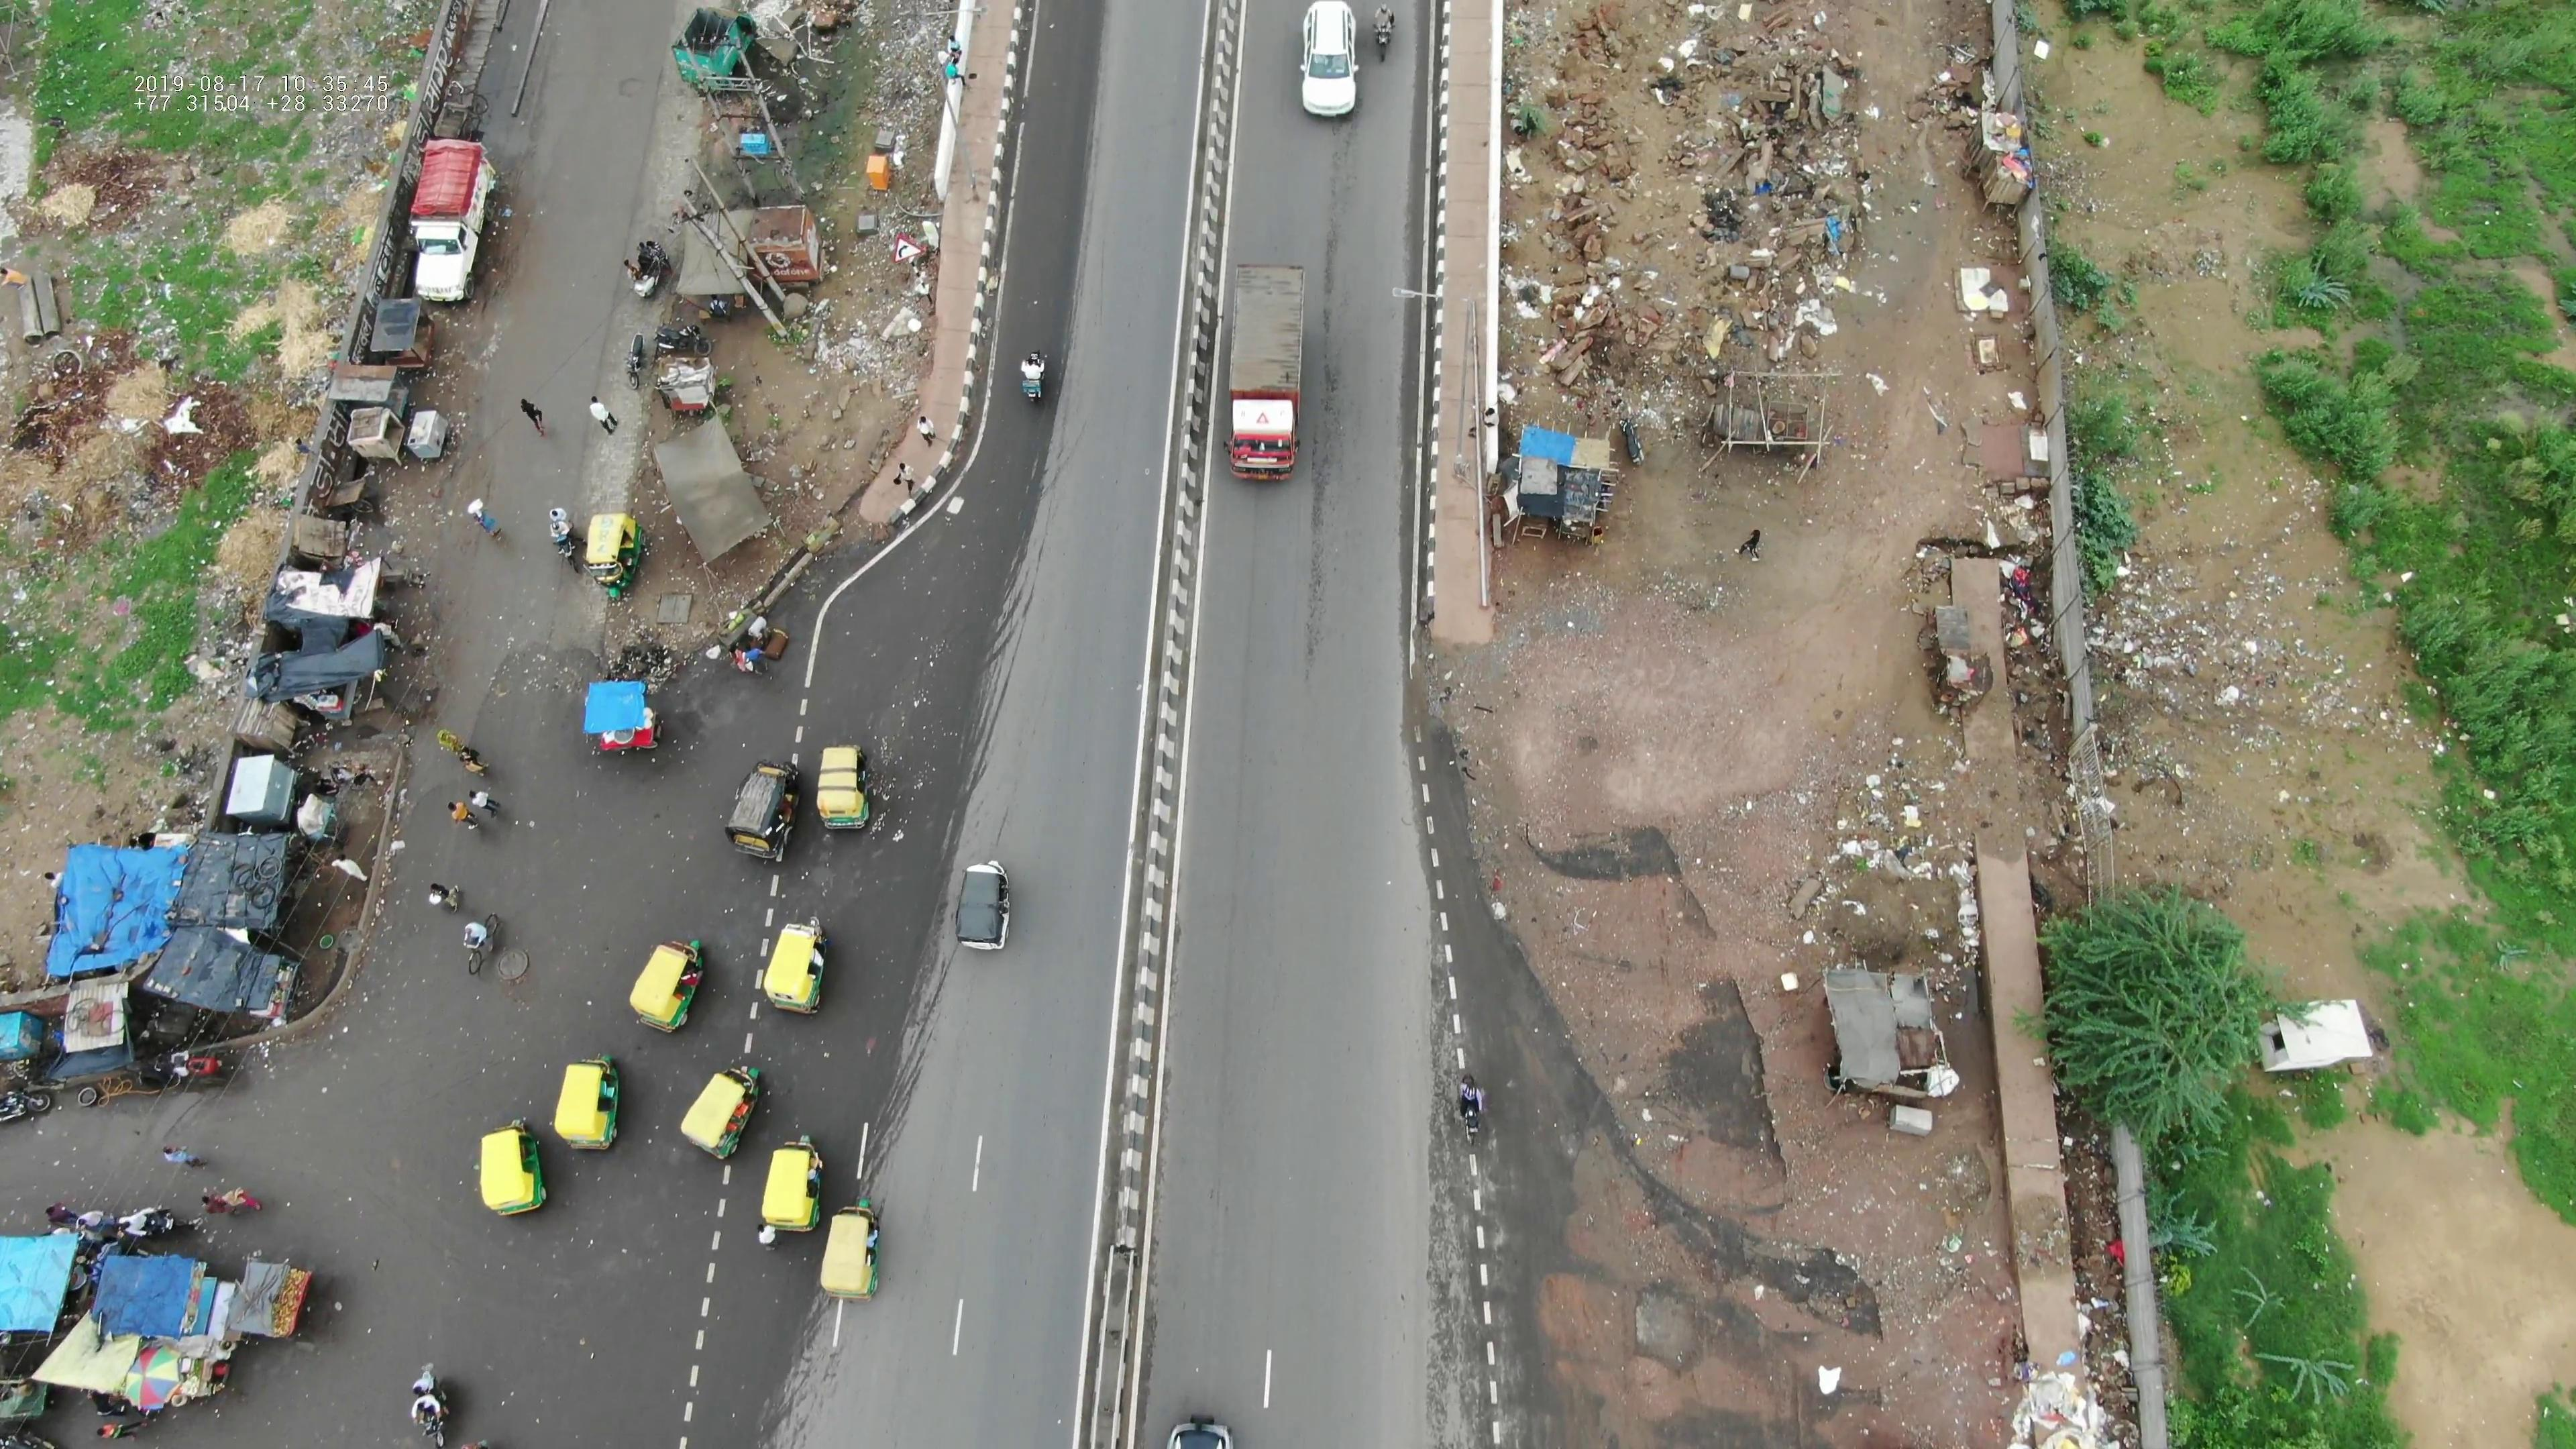Potholes: (594, 53, 649, 117)
Road_side_garbage: (1500, 37, 1849, 377)
